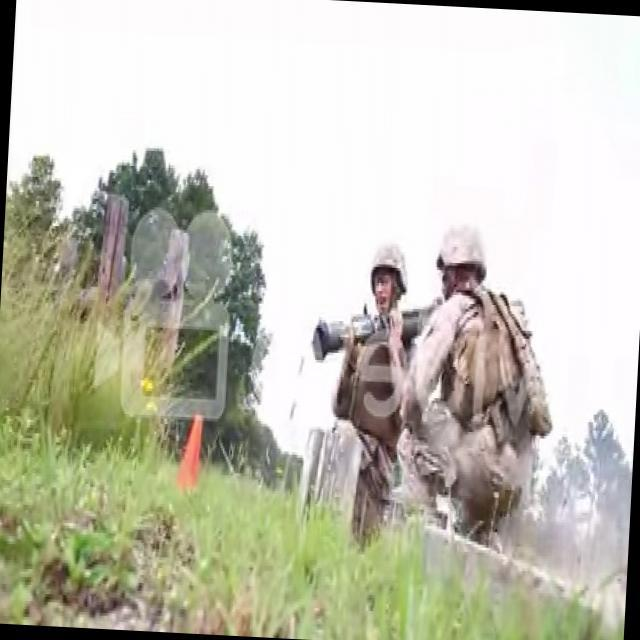rocket: (312, 292, 440, 368)
